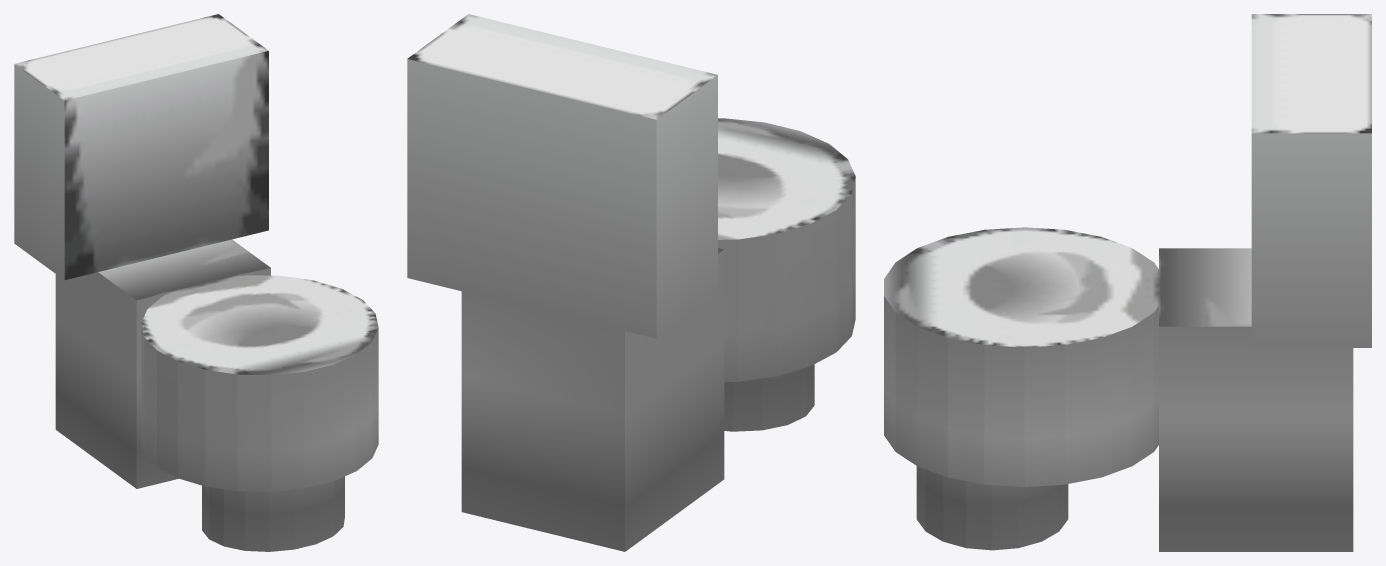
Rendered from Building_AncientToilet.glb.
3 views of the same model, side by side, from view 1: azimuth 30°, elevation 25°; view 2: azimuth 150°, elevation 25°; view 3: azimuth 270°, elevation 25° (orthographic). The views are drawn at different scales.
Visible parts, largest first — view 1: AncientToilet; view 2: AncientToilet; view 3: AncientToilet.
Boxes of the visible parts, bbox=[...] form: AncientToilet: bbox=[14, 14, 378, 551]; AncientToilet: bbox=[407, 14, 855, 551]; AncientToilet: bbox=[884, 14, 1371, 551].
Bounding box in the file's own units: 0.4822 × 0.82 × 0.8235.
Materials: 1 (1 with a texture image).
